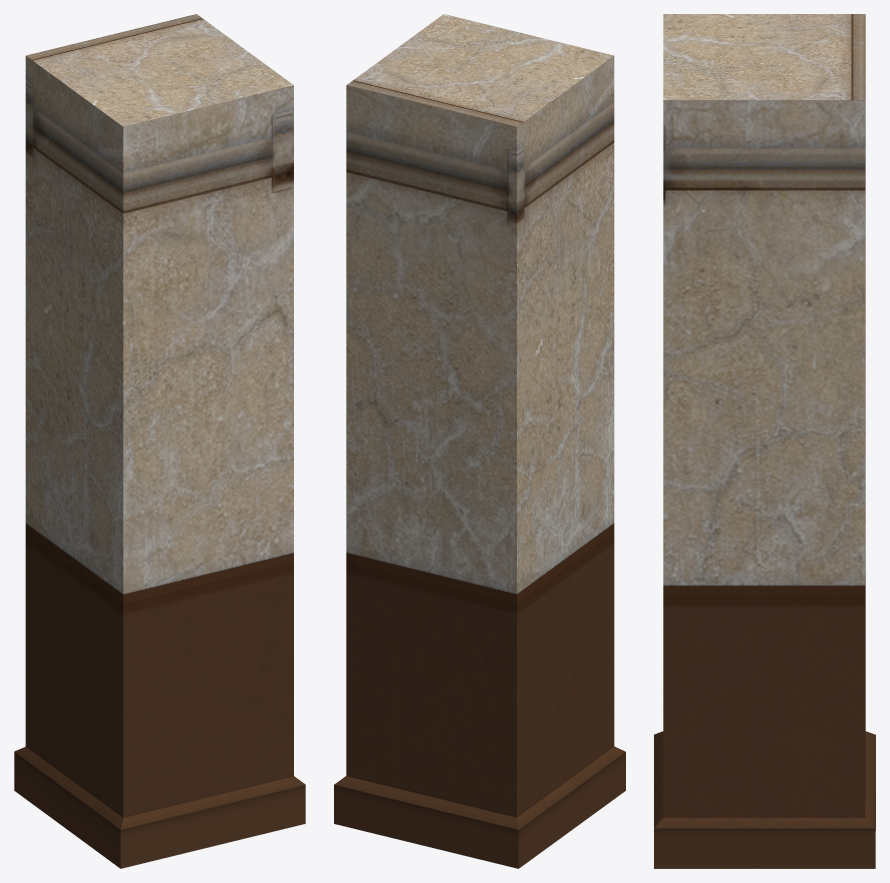
The model's file is Wall_Serv_box.fbx.
The picture shows the model from 3 angles, left to right: view 1: azimuth 30°, elevation 25°; view 2: azimuth 150°, elevation 25°; view 3: azimuth 270°, elevation 25°; orthographic projection. The views are drawn at different scales.
Visible parts, largest first — view 1: Wall_Servants_Box; view 2: Wall_Servants_Box; view 3: Wall_Servants_Box.
Part boxes in pixels (x1,y1,x2,y2): Wall_Servants_Box: (14, 14, 305, 868); Wall_Servants_Box: (334, 14, 625, 868); Wall_Servants_Box: (654, 14, 875, 868).
Size of the model in its own units: 97.45 by 371 by 97.5.
